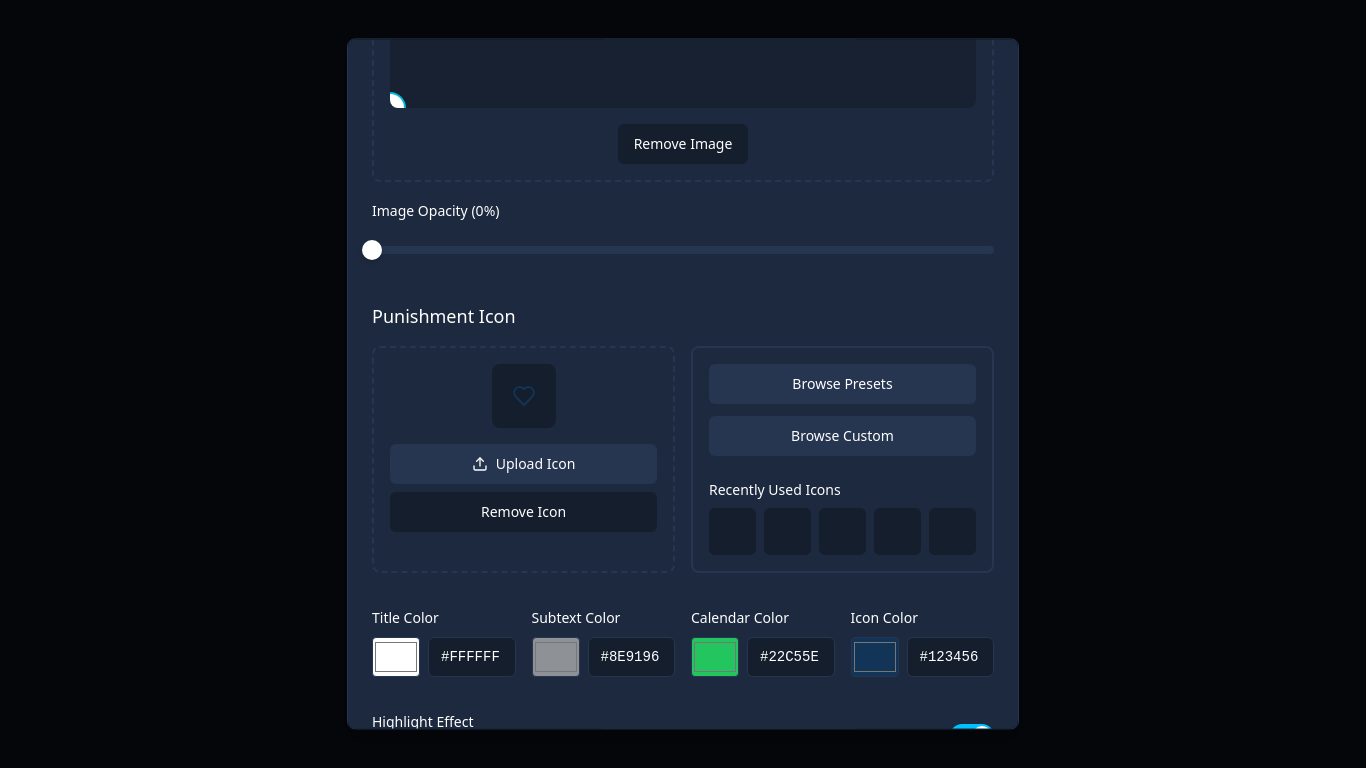
Test: actual punishment editor theme › keeps original nested preset and delete dialog colors, saved icon color and cancellation behavior
The image size is (1366, 768).
(page scrolled)
Click the button "Browse Presets".
click(842, 384)  # box [709,364,976,404]
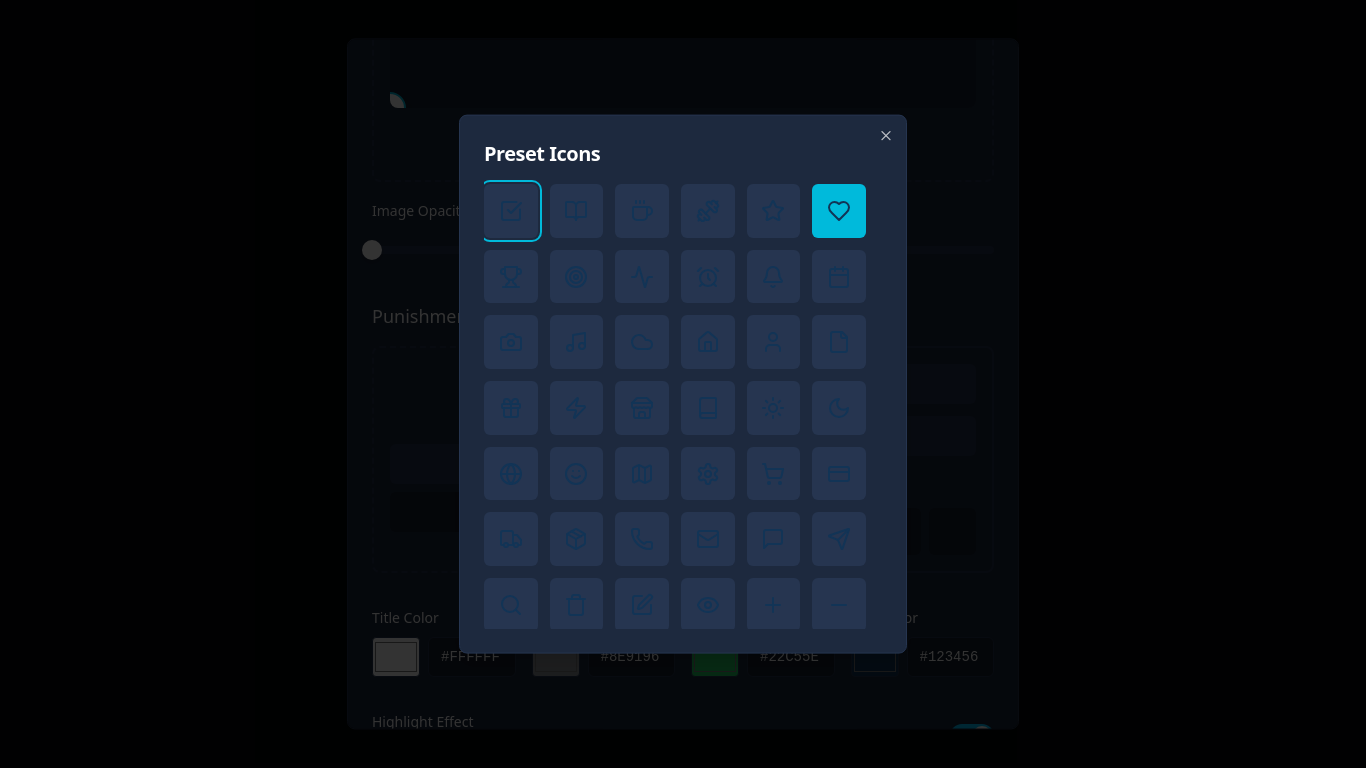
Click the button named "Select Heart icon".
click(839, 210)  # box [812,184,866,237]
(page scrolled)
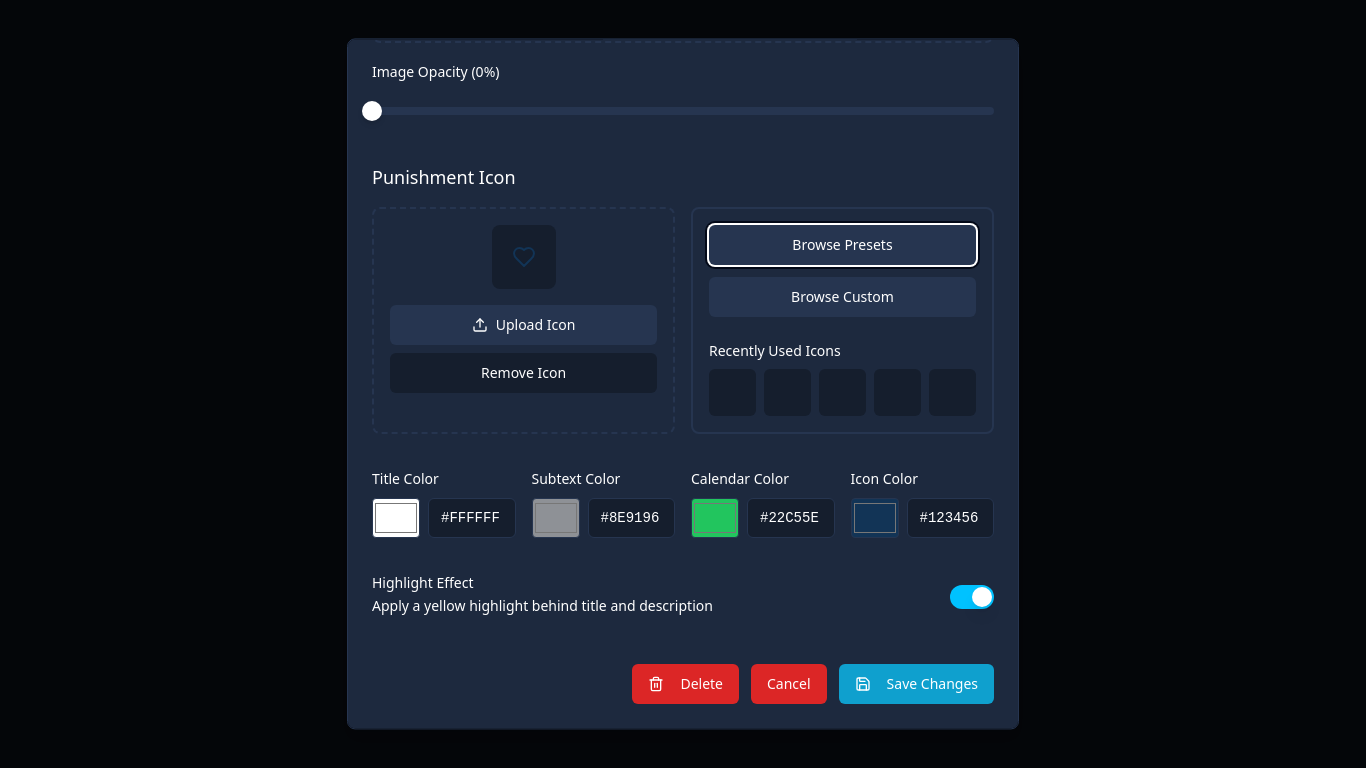
Click the button "Delete".
click(686, 684)  # box [632,664,739,704]
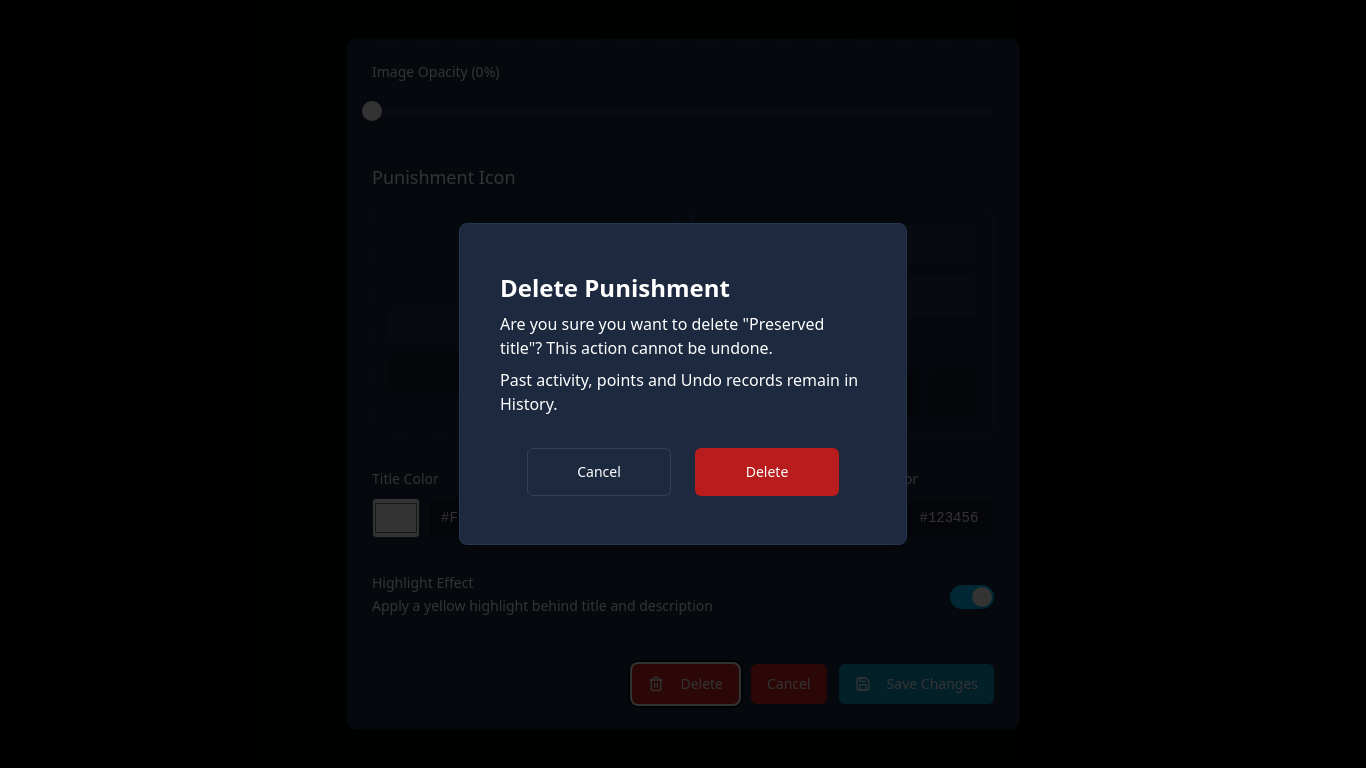
Click the button "Cancel".
click(599, 472)  # box [527,448,671,496]
(page scrolled)
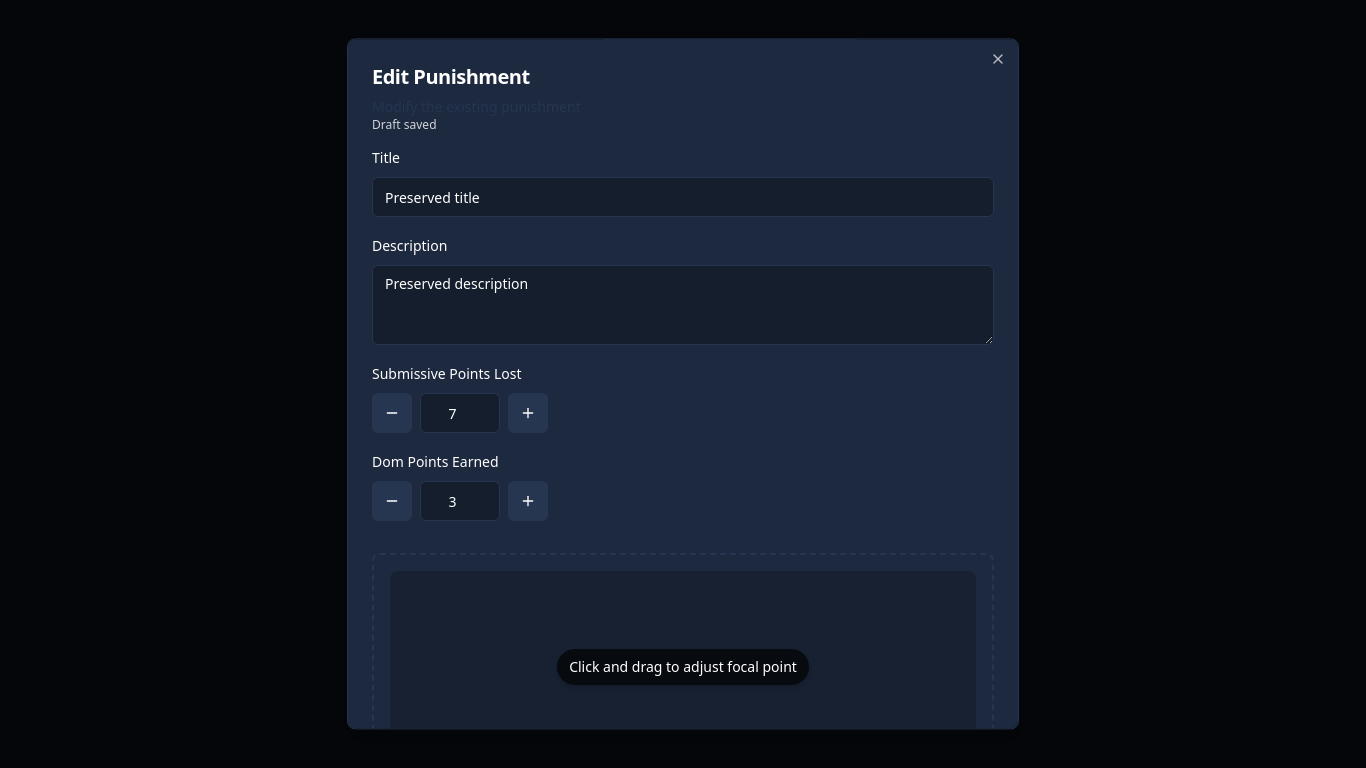
Check: the field labelled "Title" is shown, box [372,177,994,217]
